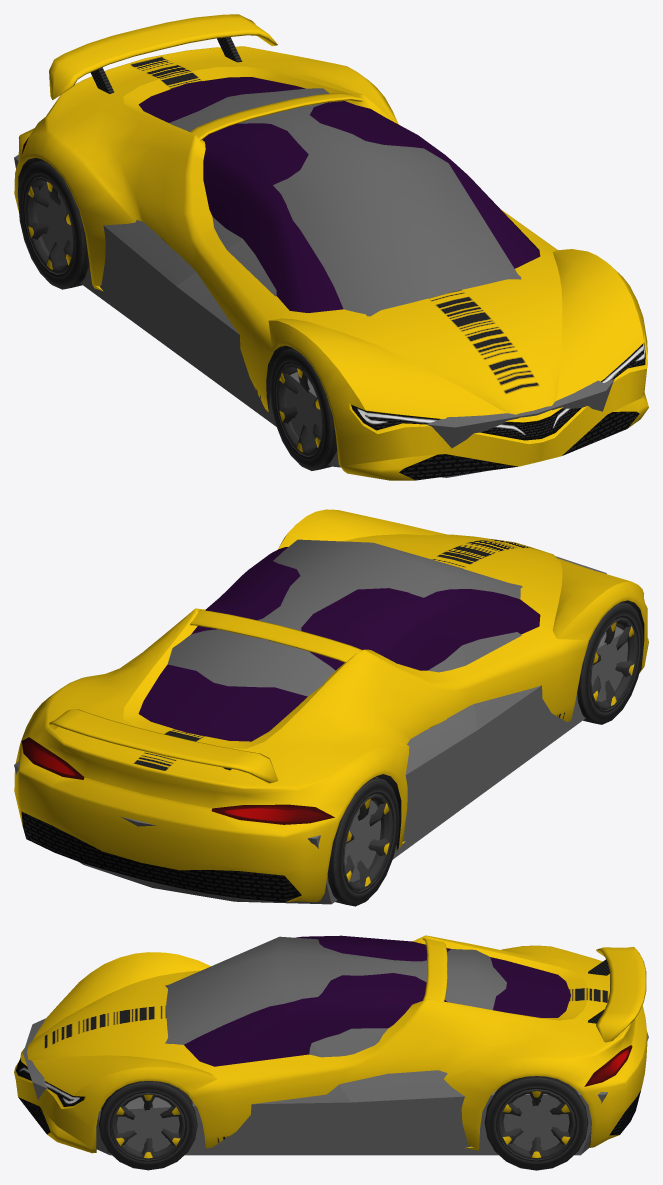
Rendered from catamount.fbx.
3 views of the same model, one above another, from view 1: azimuth 30°, elevation 25°; view 2: azimuth 150°, elevation 25°; view 3: azimuth 270°, elevation 25° (orthographic). The views are drawn at different scales.
Parts seen in each view (by area): view 1: polySurface1, pCube3, polySurface20, polySurface6, pCylinder8, pCylinder9, polySurface13, polySurface14, polySurface3; view 2: polySurface1, pCube3, polySurface20, pCylinder8, polySurface6, pCylinder9, polySurface13; view 3: polySurface1, pCube3, polySurface20, pCylinder7, pCylinder3, polySurface6, polySurface13, polySurface3.
Part boxes in pixels (x1=…): polySurface1: x1=14, y1=46, x2=648, y2=480; pCube3: x1=14, y1=88, x2=614, y2=477; polySurface20: x1=138, y1=77, x2=540, y2=312; polySurface6: x1=49, y1=14, x2=277, y2=99; pCylinder8: x1=18, y1=160, x2=89, y2=289; pCylinder9: x1=270, y1=348, x2=337, y2=470; polySurface13: x1=190, y1=93, x2=363, y2=140; polySurface14: x1=399, y1=454, x2=517, y2=480; polySurface3: x1=562, y1=411, x2=639, y2=455; polySurface1: x1=14, y1=509, x2=648, y2=902; pCube3: x1=14, y1=539, x2=627, y2=904; polySurface20: x1=138, y1=547, x2=540, y2=741; pCylinder8: x1=327, y1=777, x2=399, y2=906; polySurface6: x1=49, y1=709, x2=278, y2=783; pCylinder9: x1=577, y1=601, x2=643, y2=724; polySurface13: x1=190, y1=610, x2=362, y2=662; polySurface1: x1=14, y1=935, x2=647, y2=1153; pCube3: x1=23, y1=936, x2=648, y2=1155; polySurface20: x1=184, y1=935, x2=570, y2=1066; pCylinder7: x1=484, y1=1076, x2=588, y2=1170; pCylinder3: x1=99, y1=1081, x2=197, y2=1170; polySurface6: x1=596, y1=946, x2=646, y2=1042; polySurface13: x1=422, y1=938, x2=447, y2=1001; polySurface3: x1=18, y1=1097, x2=50, y2=1134.
Bounding box in the file's own units: 194 × 117 × 425.
